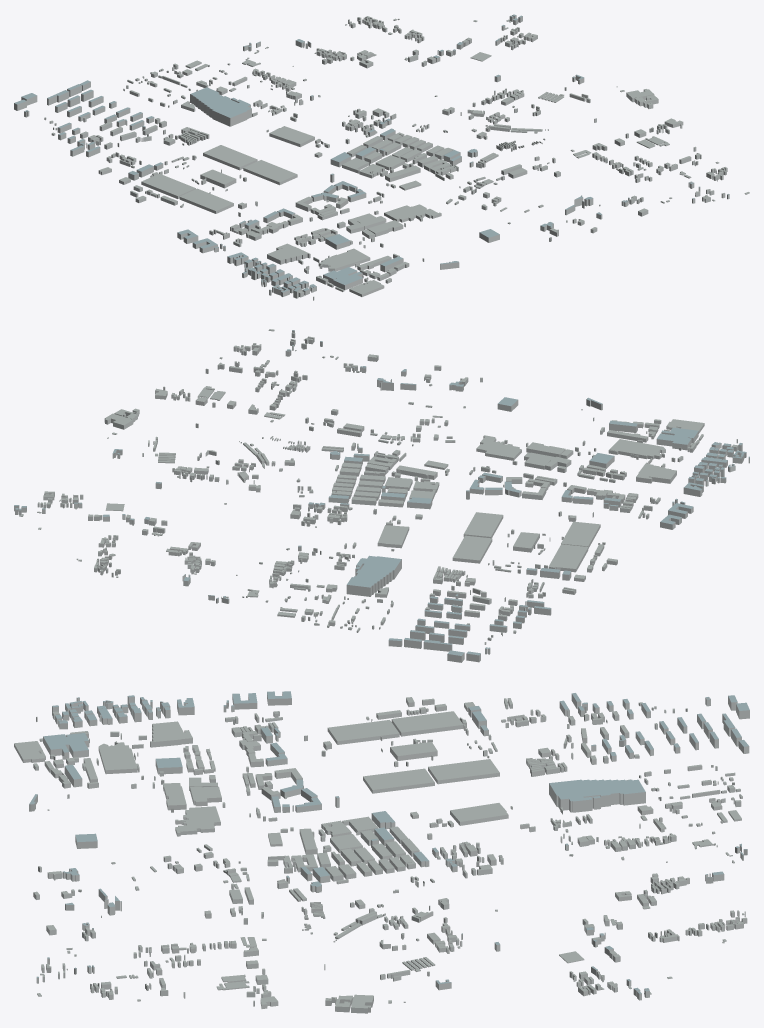
The model's file is far.glb.
3 views of the same model, one above another, from view 1: azimuth 30°, elevation 25°; view 2: azimuth 150°, elevation 25°; view 3: azimuth 270°, elevation 25° (orthographic). The views are drawn at different scales.
Size of the model in its own units: 2181 by 36.41 by 2150.
